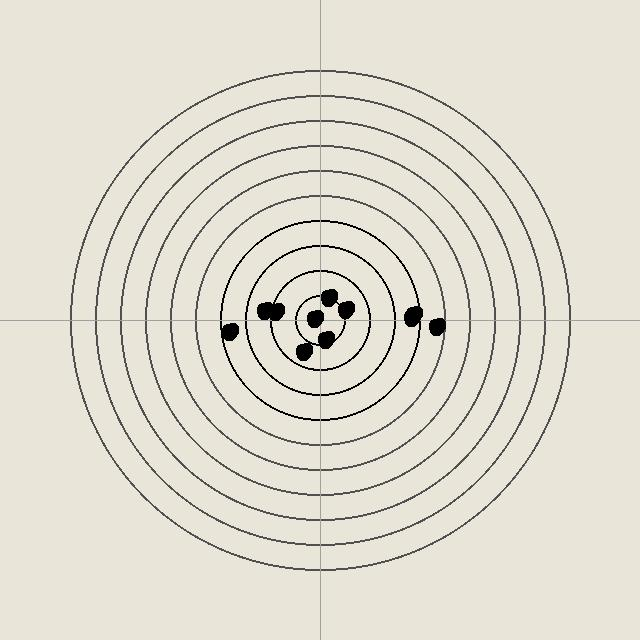horizontal_scatter: (335, 299, 355, 319), (293, 341, 313, 361), (315, 329, 335, 349), (426, 316, 446, 336), (403, 304, 423, 324), (265, 301, 285, 321), (254, 300, 274, 320), (304, 308, 324, 328), (318, 287, 338, 307), (401, 307, 421, 327), (219, 321, 239, 341)
